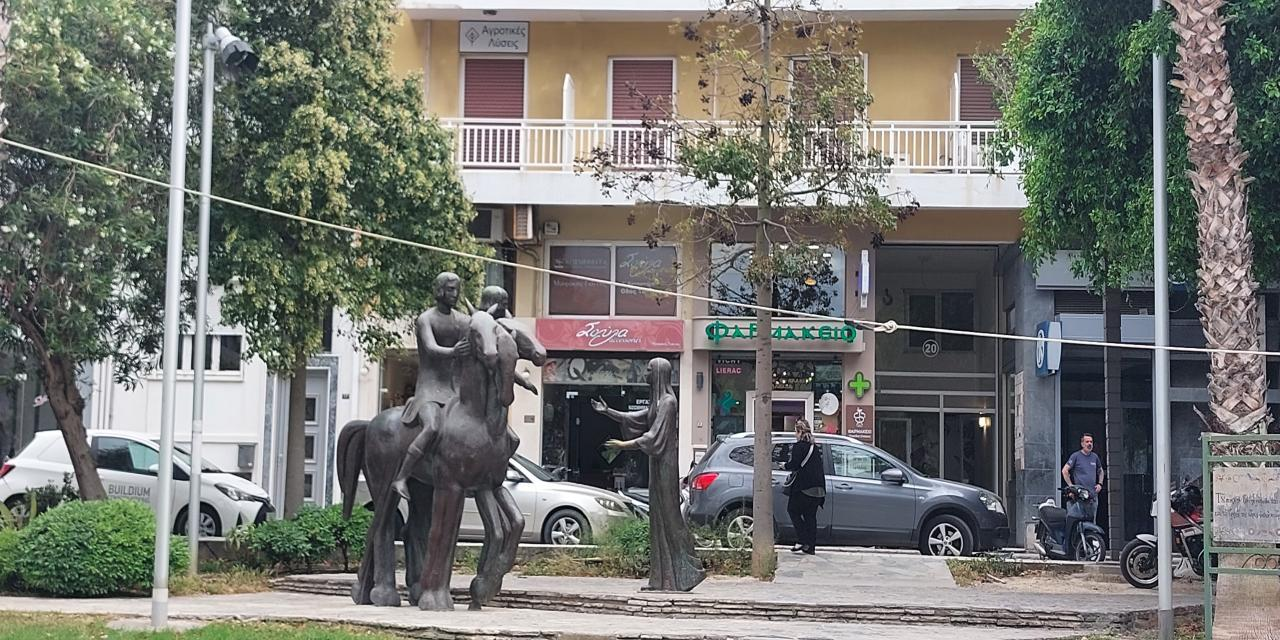Aretousa: (337, 270, 708, 614)
